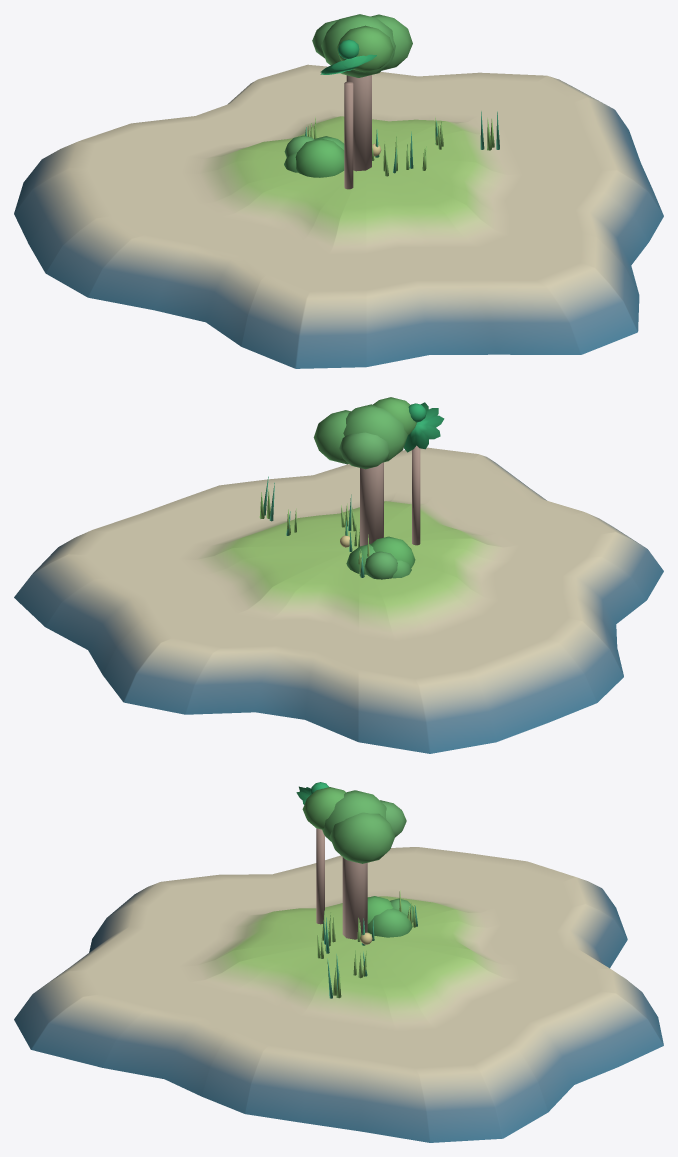
Rendered from terrain_island_03.glb.
3 renders of one model, top to bottom at view 1: azimuth 30°, elevation 25°; view 2: azimuth 150°, elevation 25°; view 3: azimuth 270°, elevation 25°, orthographic. The views are drawn at different scales.
Visible parts, largest first — view 1: island_terrain, veg_tree0_tree_trunk, veg_shrub1_ball1, veg_tree0_tree_crown_c, veg_tree0_tree_crown_1, veg_tree1_palm_trunk, veg_tree0_tree_crown_0; view 2: island_terrain, veg_tree0_tree_crown_c, veg_tree0_tree_trunk, veg_tree0_tree_crown_2, veg_tree0_tree_crown_0, veg_tree1_palm_trunk, veg_shrub1_ball3, veg_shrub1_ball1, veg_tree0_tree_crown_1; view 3: island_terrain, veg_tree0_tree_crown_0, veg_tree0_tree_trunk, veg_tree0_tree_crown_c, veg_tree0_tree_crown_1, veg_shrub1_ball0, veg_tree1_palm_trunk.
Part boxes in pixels (left/top/right/bottom): island_terrain: left=14, top=64, right=663, bottom=368; veg_tree0_tree_trunk: left=346, top=75, right=371, bottom=171; veg_shrub1_ball1: left=295, top=138, right=344, bottom=177; veg_tree0_tree_crown_c: left=321, top=14, right=395, bottom=77; veg_tree0_tree_crown_1: left=336, top=25, right=393, bottom=72; veg_tree1_palm_trunk: left=344, top=81, right=353, bottom=189; veg_tree0_tree_crown_0: left=370, top=14, right=412, bottom=70; island_terrain: left=14, top=447, right=663, bottom=753; veg_tree0_tree_crown_c: left=343, top=404, right=407, bottom=462; veg_tree0_tree_trunk: left=360, top=462, right=383, bottom=546; veg_tree0_tree_crown_2: left=339, top=432, right=389, bottom=469; veg_tree0_tree_crown_0: left=313, top=410, right=350, bottom=464; veg_tree1_palm_trunk: left=412, top=445, right=420, bottom=545; veg_shrub1_ball3: left=364, top=551, right=397, bottom=579; veg_shrub1_ball1: left=370, top=536, right=415, bottom=567; veg_tree0_tree_crown_1: left=373, top=397, right=416, bottom=434; island_terrain: left=14, top=847, right=663, bottom=1142; veg_tree0_tree_crown_0: left=329, top=812, right=395, bottom=863; veg_tree0_tree_trunk: left=342, top=857, right=367, bottom=939; veg_tree0_tree_crown_c: left=322, top=790, right=386, bottom=841; veg_tree0_tree_crown_1: left=302, top=787, right=345, bottom=829; veg_shrub1_ball0: left=367, top=908, right=412, bottom=937; veg_tree1_palm_trunk: left=316, top=828, right=324, bottom=924.
Bounding box in the file's own units: 145 × 51.35 × 147.
